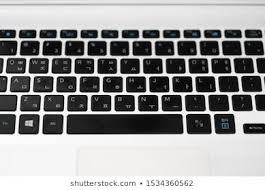keyboard: (0, 28, 265, 148)
